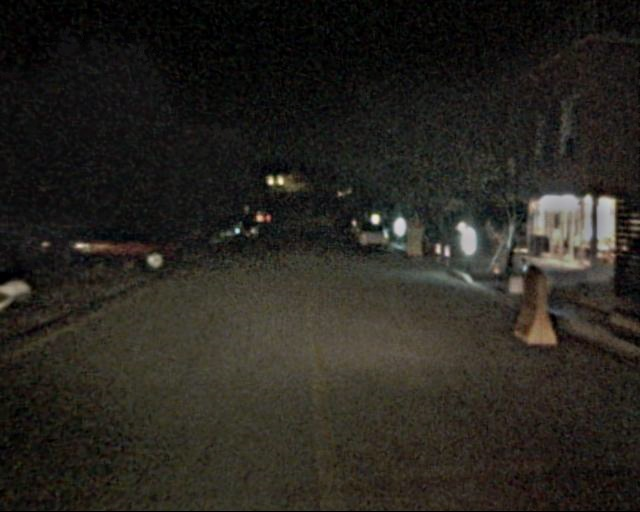person: (479, 219, 500, 271)
